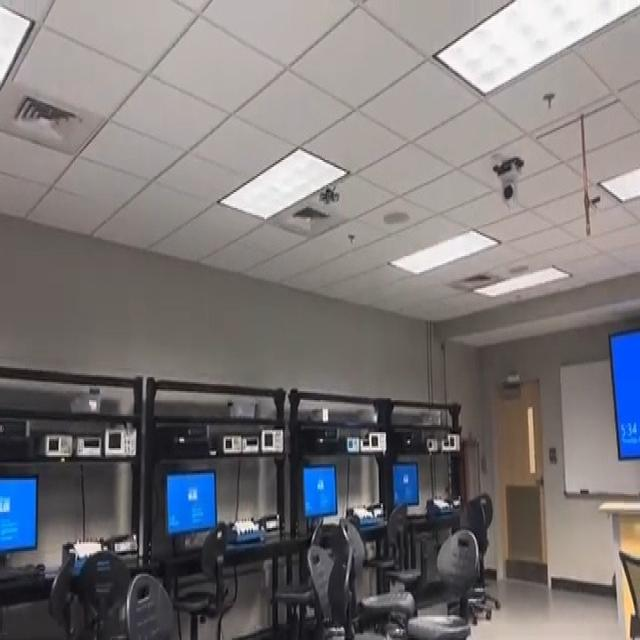drone: (311, 175, 351, 219)
